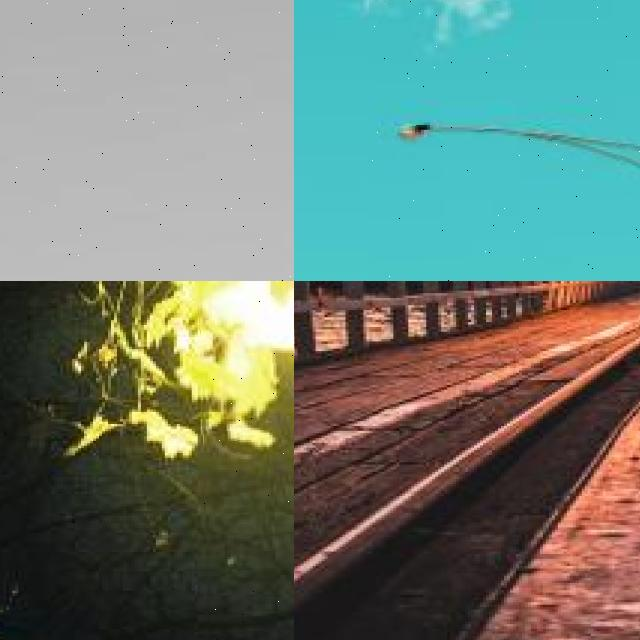street light: (0, 0, 294, 281), (369, 0, 640, 281), (390, 118, 640, 281), (197, 281, 294, 640)
